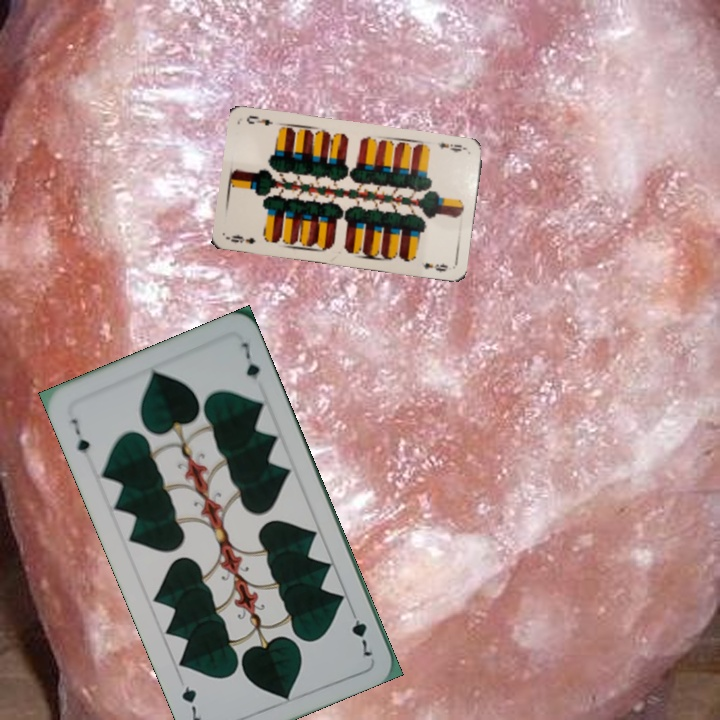E9: (433, 138, 469, 155), (225, 231, 258, 247)
G7: (347, 603, 375, 660), (66, 414, 93, 463)
